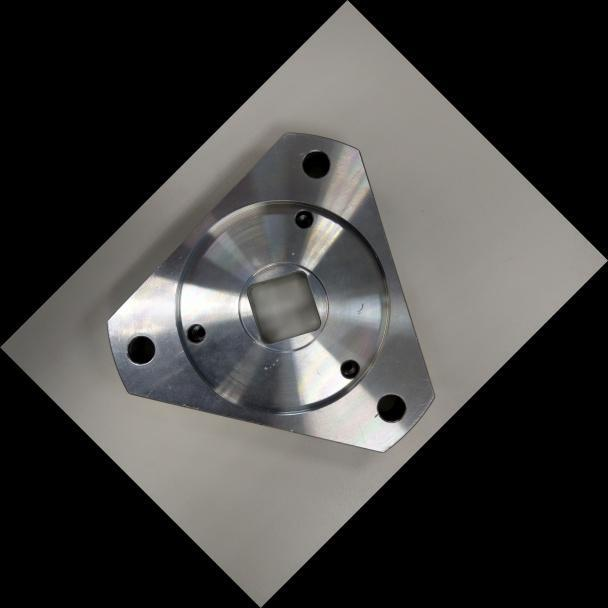hole: (291, 139, 340, 188), (367, 383, 415, 431), (116, 327, 164, 374), (178, 317, 213, 352), (334, 352, 367, 386), (288, 203, 319, 234)
